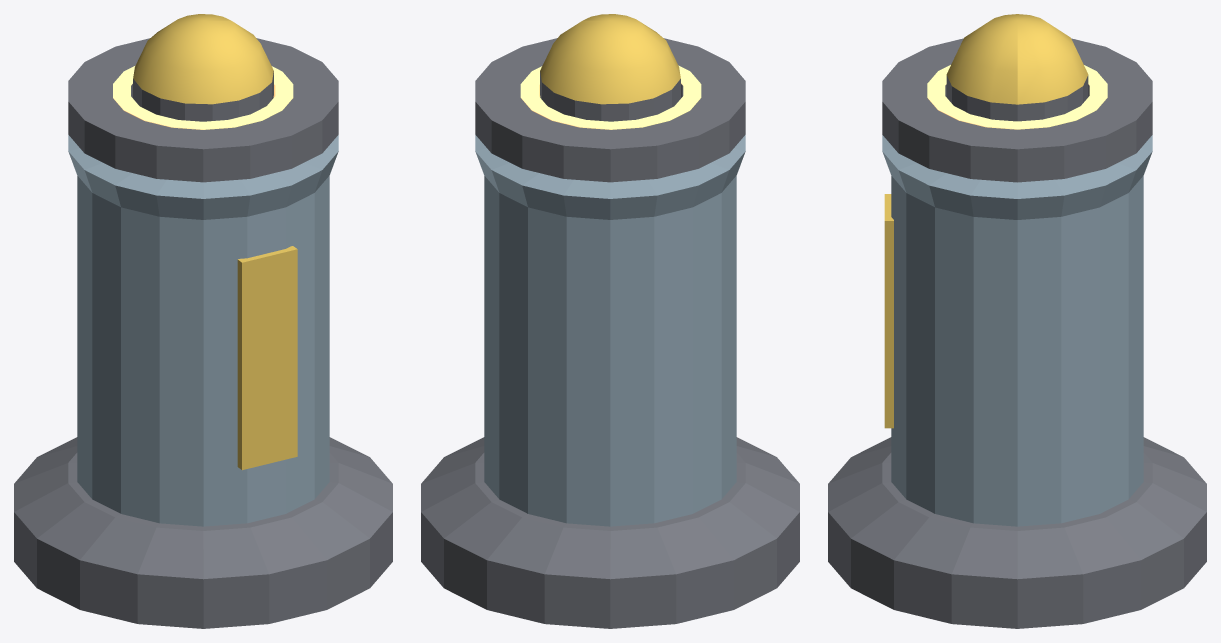
File: animated-mechanisms-kit-button-pedestal-8355688c__24636.glb
The picture shows the model from 3 angles, left to right: view 1: azimuth 30°, elevation 25°; view 2: azimuth 150°, elevation 25°; view 3: azimuth 270°, elevation 25°; orthographic projection.
Visible parts, largest first — view 1: button-pedestal, button/accent, button/iron; view 2: button-pedestal, button/accent, button/iron; view 3: button-pedestal, button/accent, button/iron.
Part boxes in pixels (x1,y1,x2,y2): button-pedestal: [14, 38, 392, 628]; button/accent: [133, 14, 273, 104]; button/iron: [133, 71, 273, 121]; button-pedestal: [421, 38, 799, 628]; button/accent: [540, 14, 680, 104]; button/iron: [540, 71, 680, 121]; button-pedestal: [828, 38, 1206, 628]; button/accent: [946, 14, 1088, 104]; button/iron: [946, 75, 1088, 121].
Size of the model in its own units: 0.84 by 1.27 by 0.8273.
